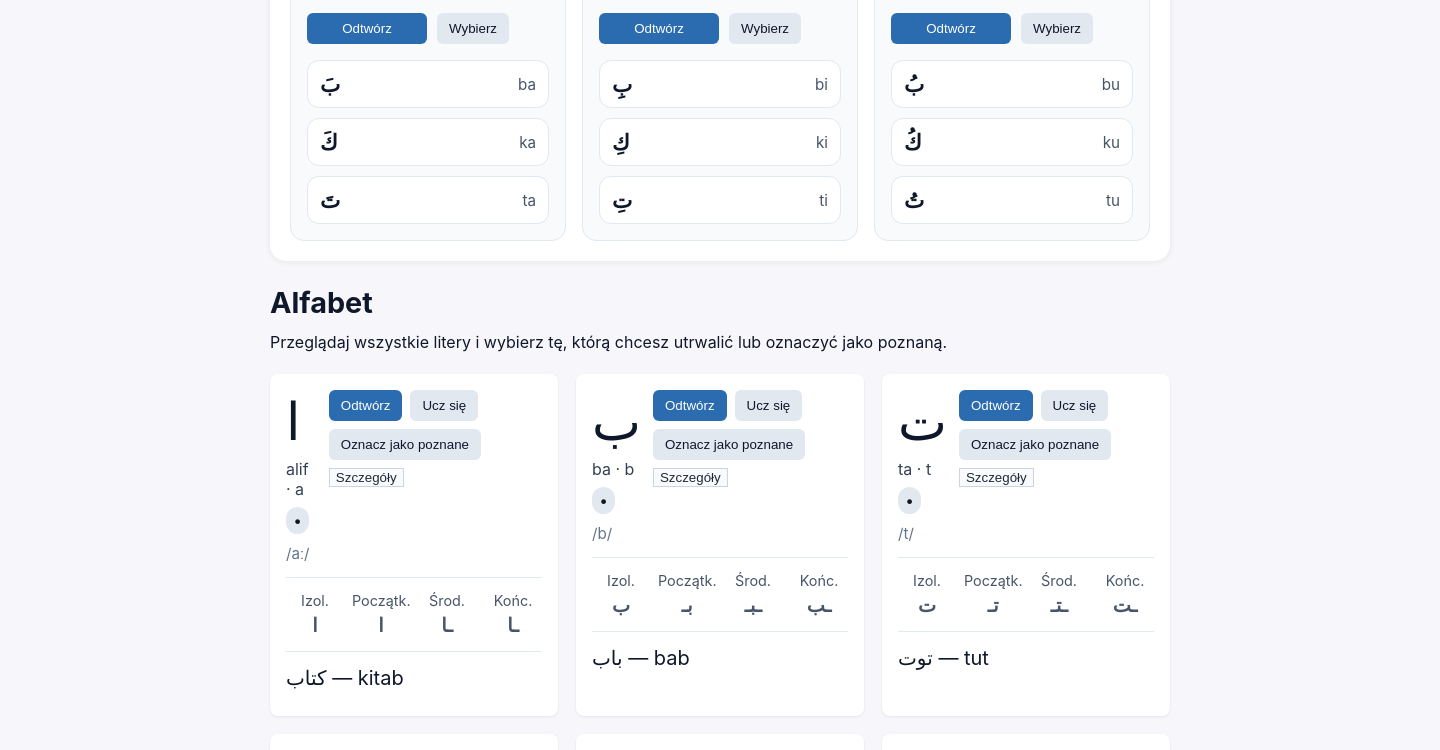
it: App › selects an active letter, toggles known letters, and opens the detail modal
(page scrolled)
Click the 1st button "Ucz się" at (444, 405), box [410,390,478,421]
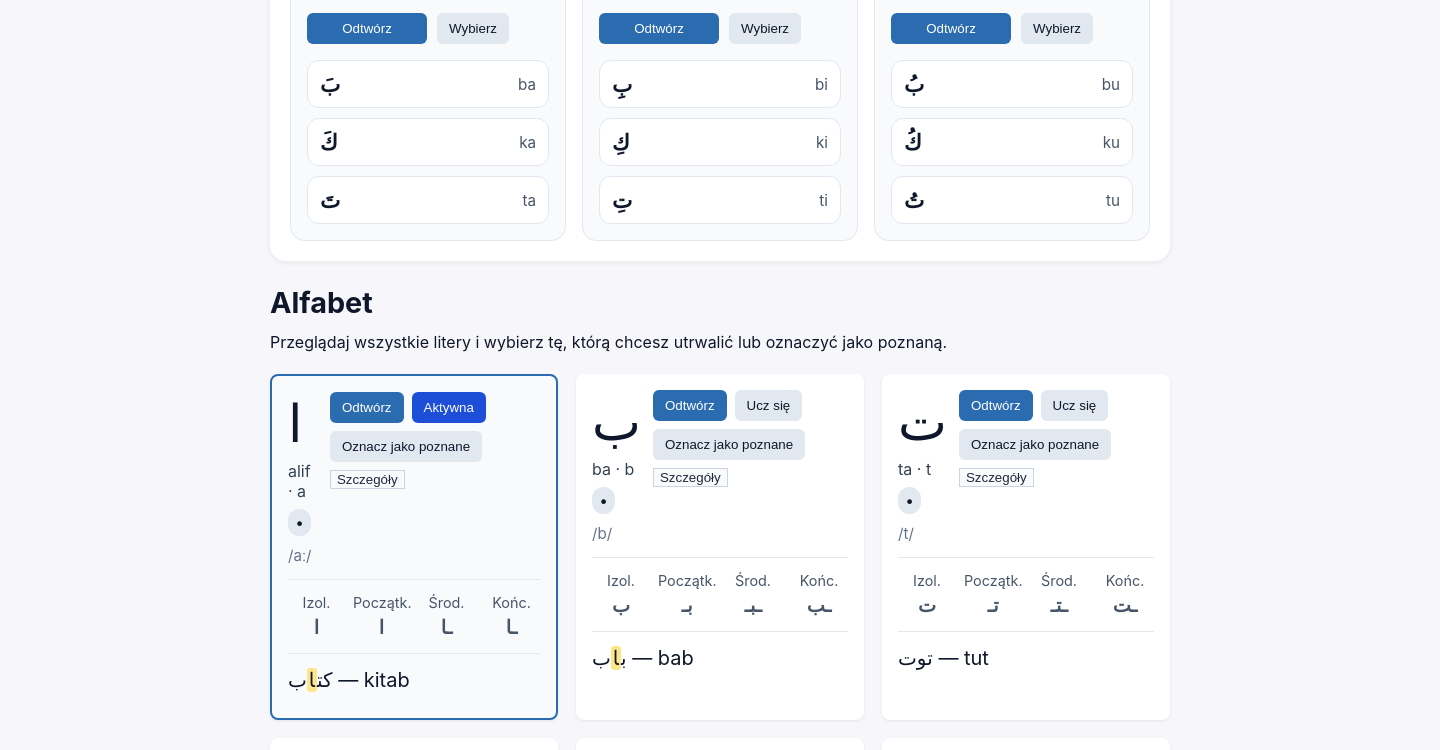
Click the 1st button "Oznacz jako poznane" at (406, 446), box [330,431,482,462]
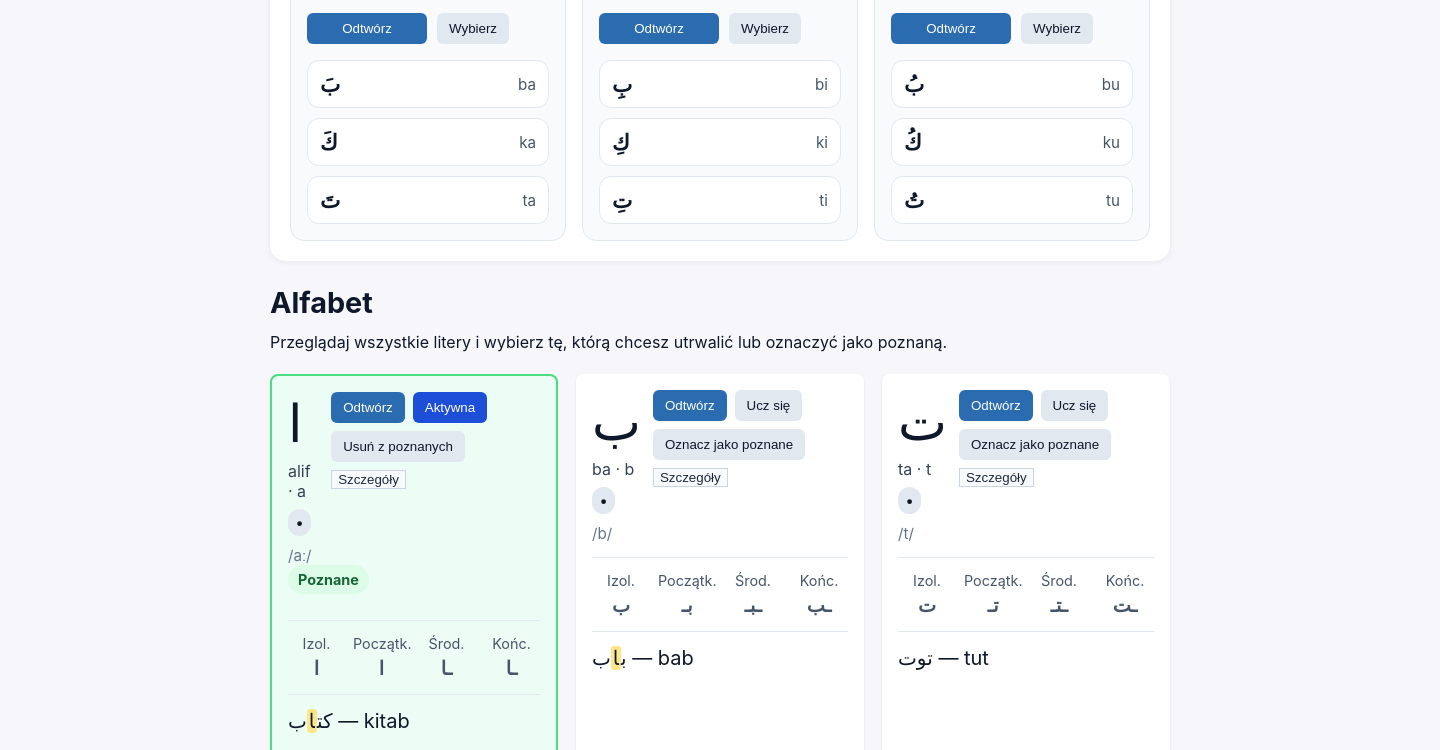
Click the button "Szczegóły" next to "alif" at (369, 479), box [331,470,406,489]
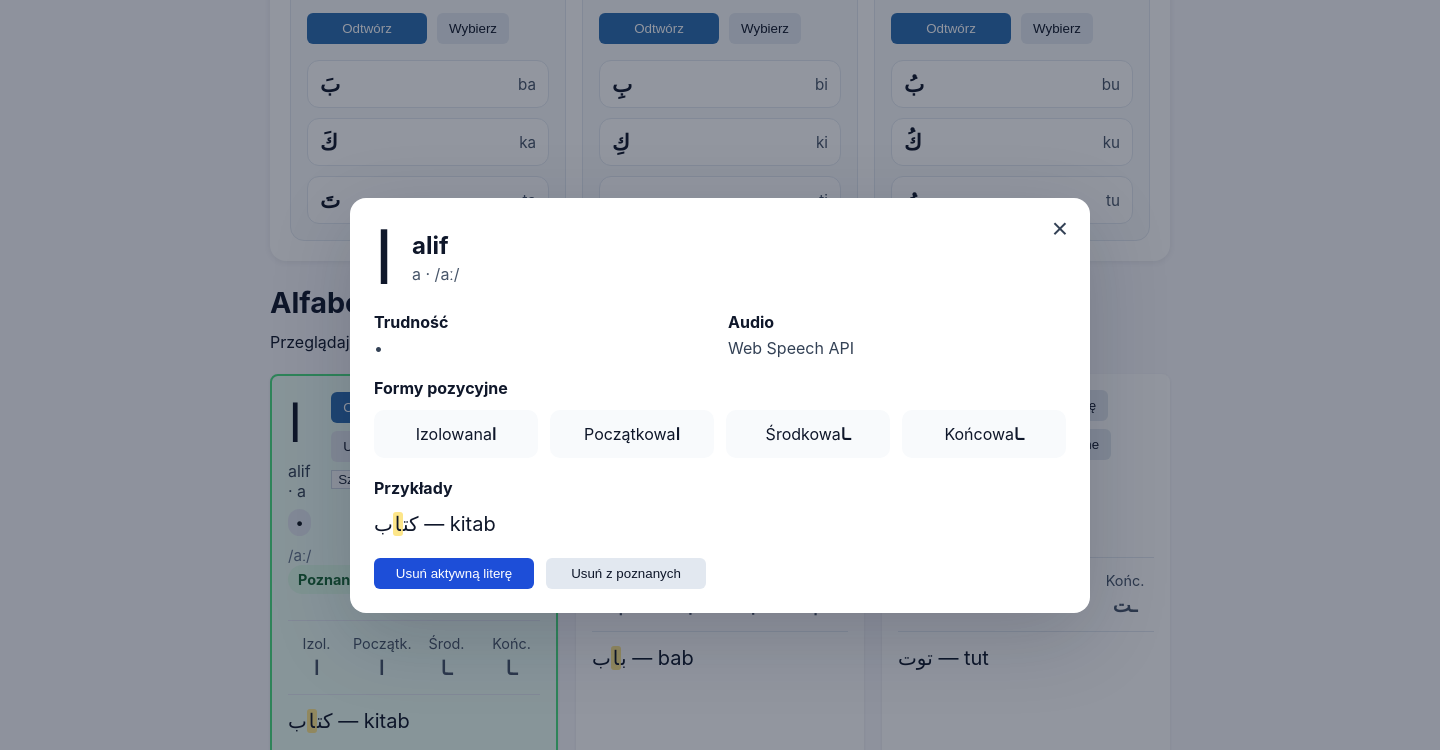
Result: the text "alif" is shown at [412,231,448,260]
Result: the button named "Zamknij" is shown at [1046,214,1074,244]
